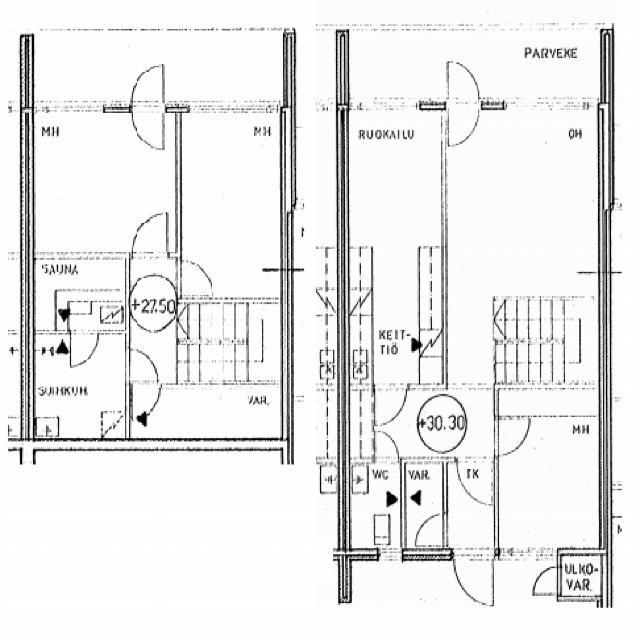door: (453, 549, 492, 606), (457, 457, 492, 503), (132, 101, 164, 149), (132, 64, 164, 112), (132, 214, 166, 258), (448, 62, 479, 110), (448, 98, 479, 145), (495, 419, 530, 455), (175, 261, 210, 296), (125, 349, 158, 382), (132, 383, 160, 421), (124, 457, 157, 489), (70, 329, 98, 366), (534, 568, 562, 596), (375, 430, 398, 462)
